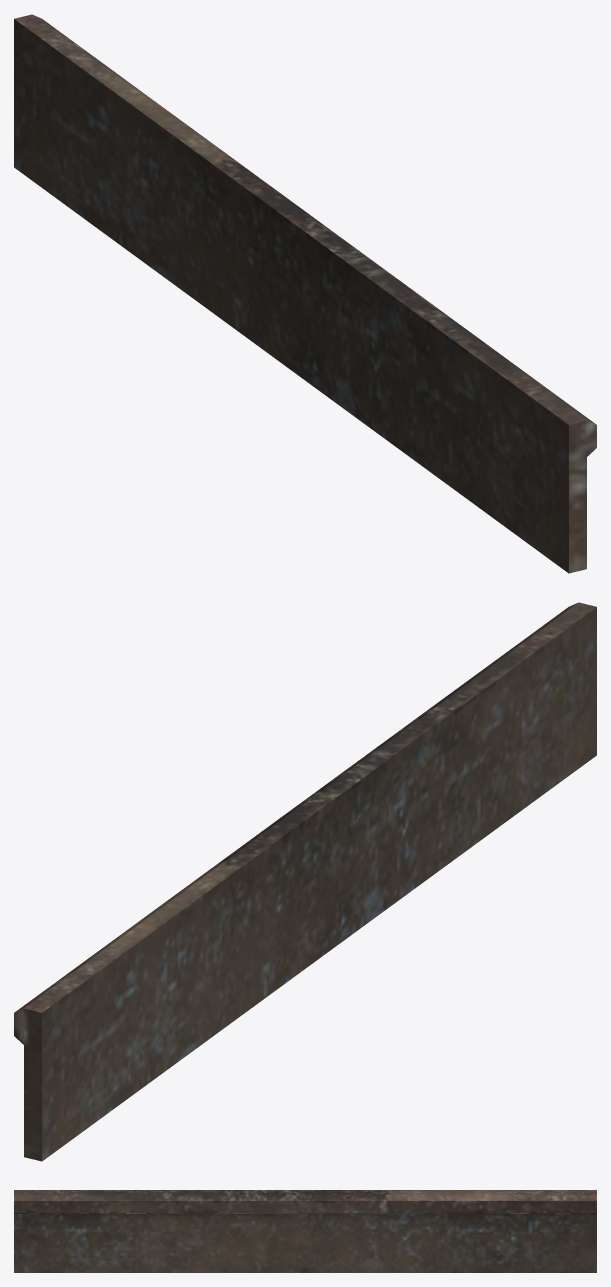
File: Roof_SideWall.FBX
3 renders of one model, top to bottom at view 1: azimuth 30°, elevation 25°; view 2: azimuth 150°, elevation 25°; view 3: azimuth 270°, elevation 25°, orthographic. The views are drawn at different scales.
Visible parts, largest first — view 1: Roof_SideWall; view 2: Roof_SideWall; view 3: Roof_SideWall.
Boxes of the visible parts, x1=… form: Roof_SideWall: x1=14, y1=14, x2=596, y2=573; Roof_SideWall: x1=14, y1=602, x2=596, y2=1161; Roof_SideWall: x1=14, y1=1190, x2=596, y2=1272.
Bounding box in the file's own units: 22.71 × 115 × 776.
